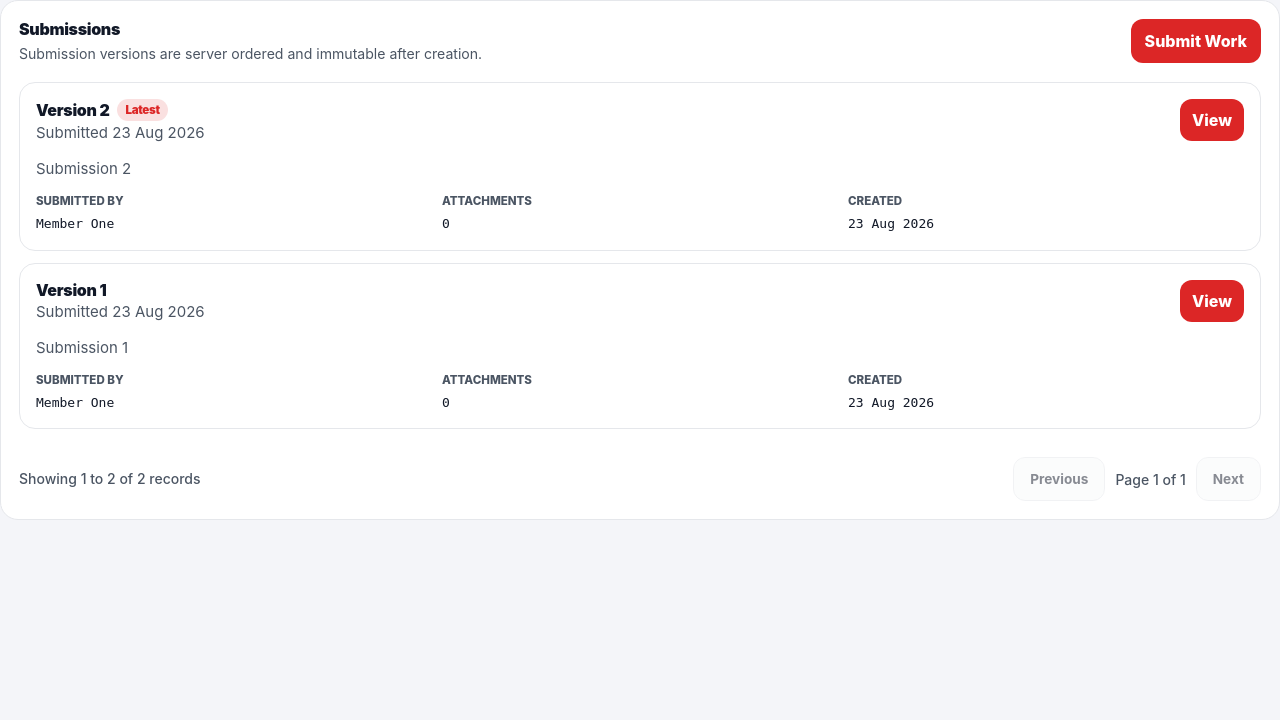
Scenario: TaskSubmissions › reconciles workflow after SUBMISSION_NOT_ALLOWED without retrying
This screenshot has width=1280, height=720.
Click the button "Submit Work": click(1196, 41) [1131,19,1261,63]
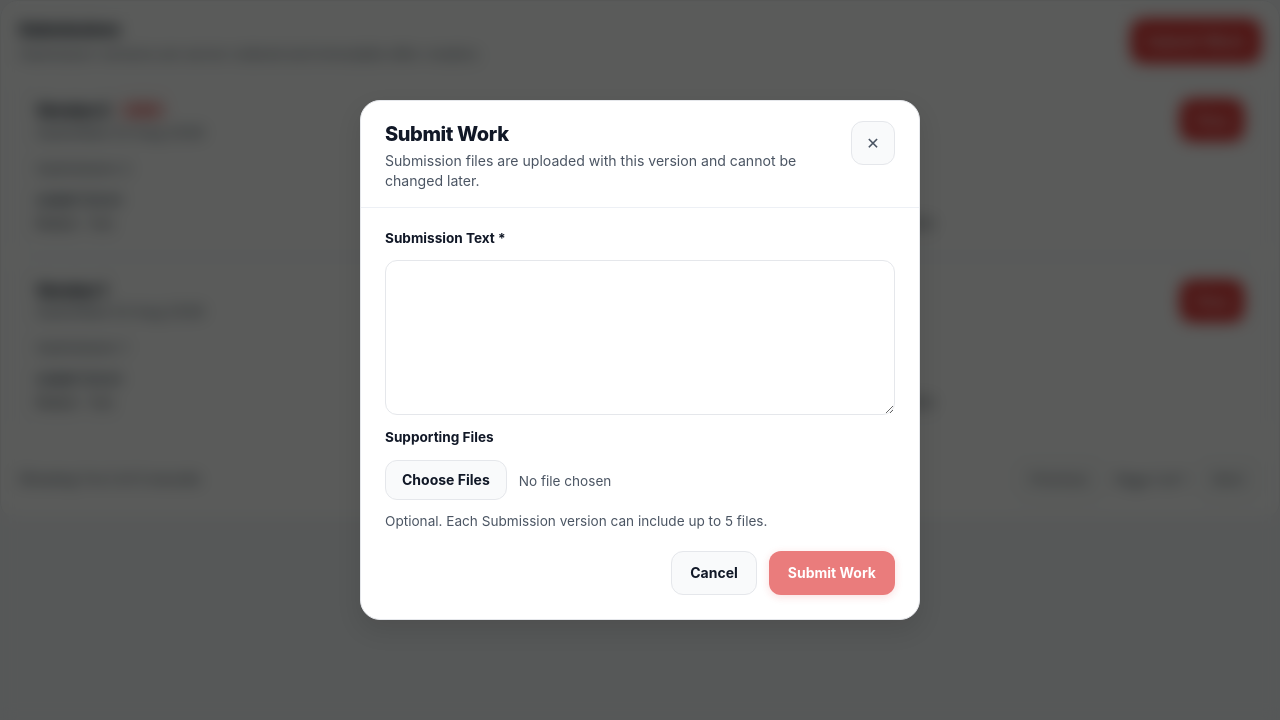
In the text box labelled "Submission Text *": (640, 338) [385,260,895,416], type "Done"
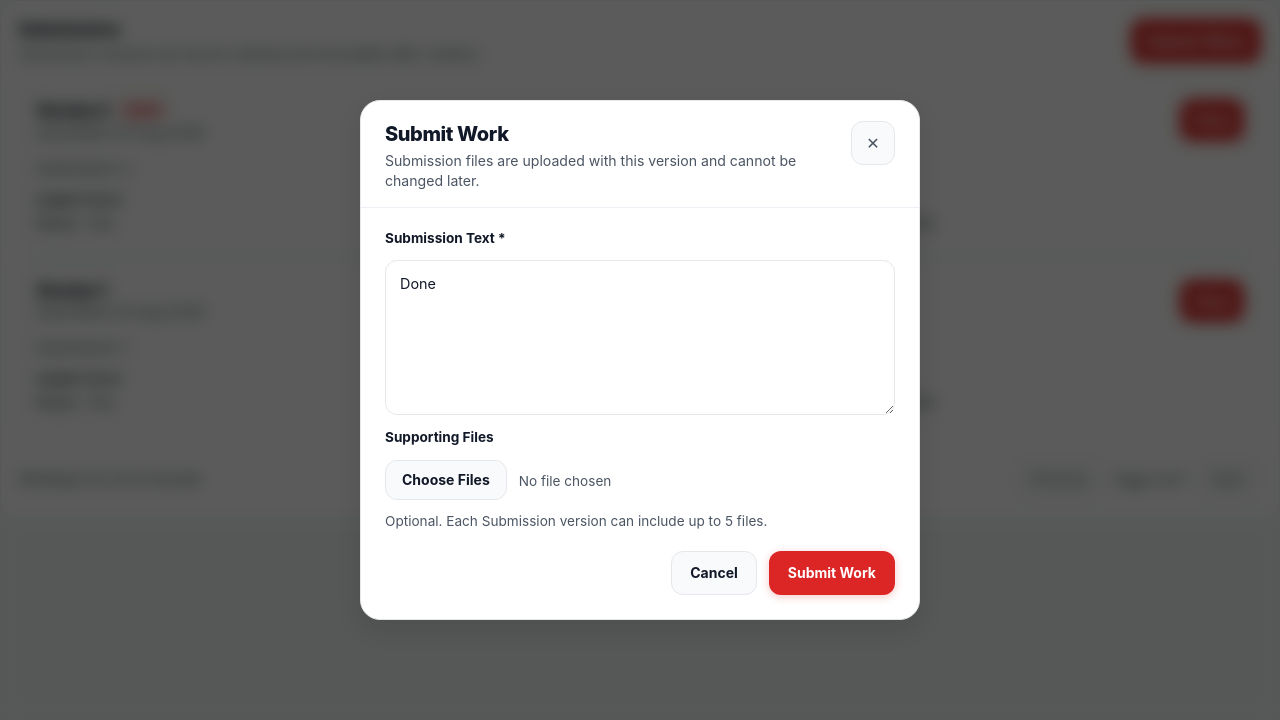
Click the button "Submit Work": click(832, 573) [769,551,895,595]
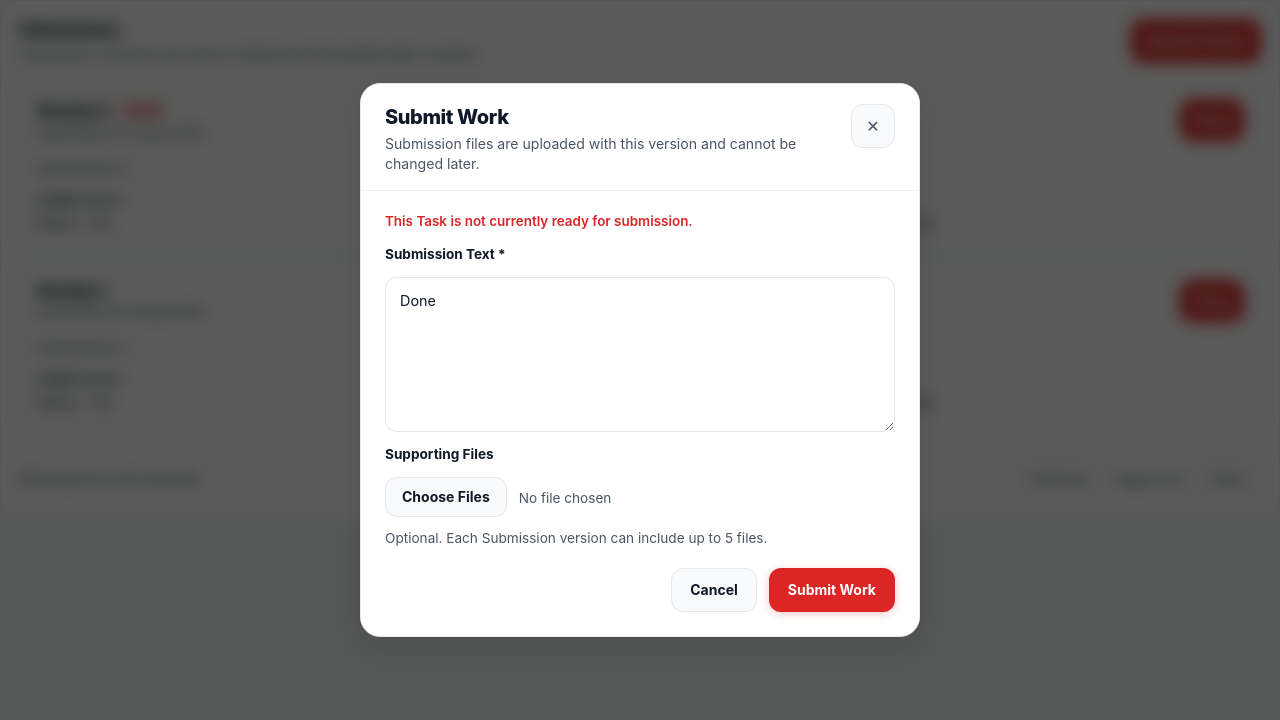
Now the message reads "This Task is not currently ready for submission.", box [385,213,693,229]
